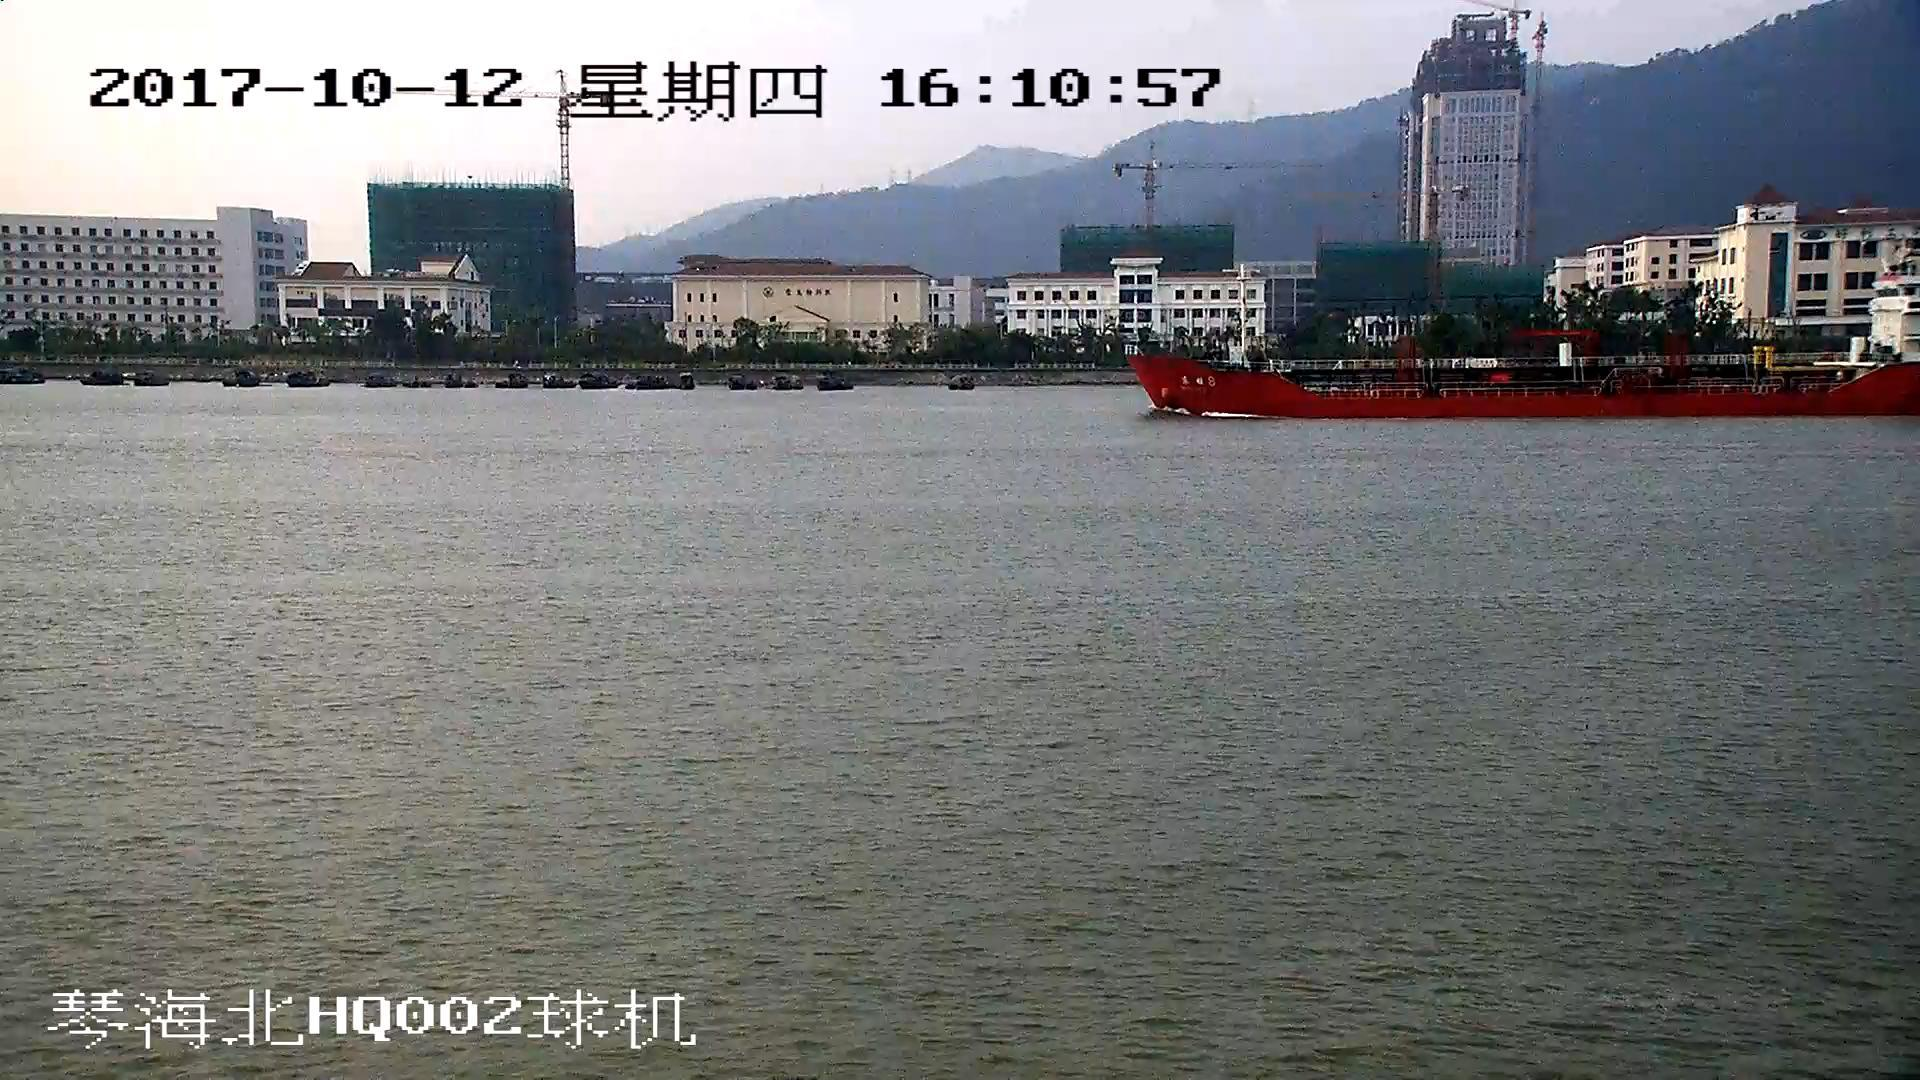Ship: (1137, 261, 1920, 423)
